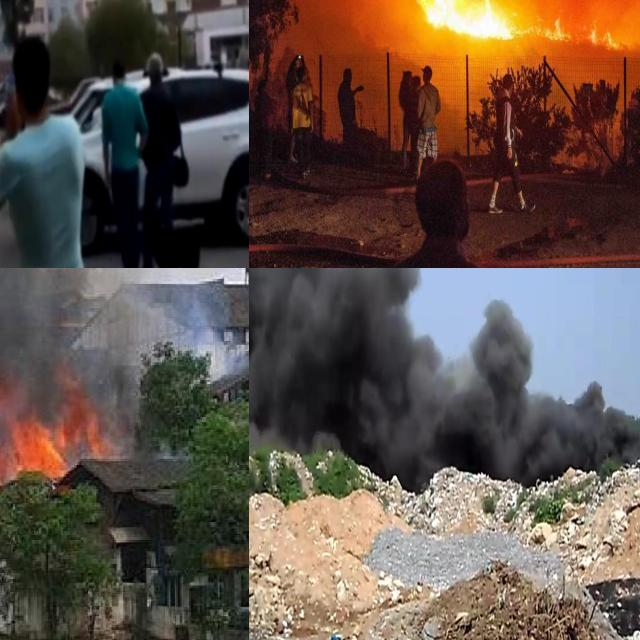fire: (0, 366, 113, 499), (413, 0, 628, 43)
smoke: (249, 268, 640, 489), (0, 268, 227, 434)
